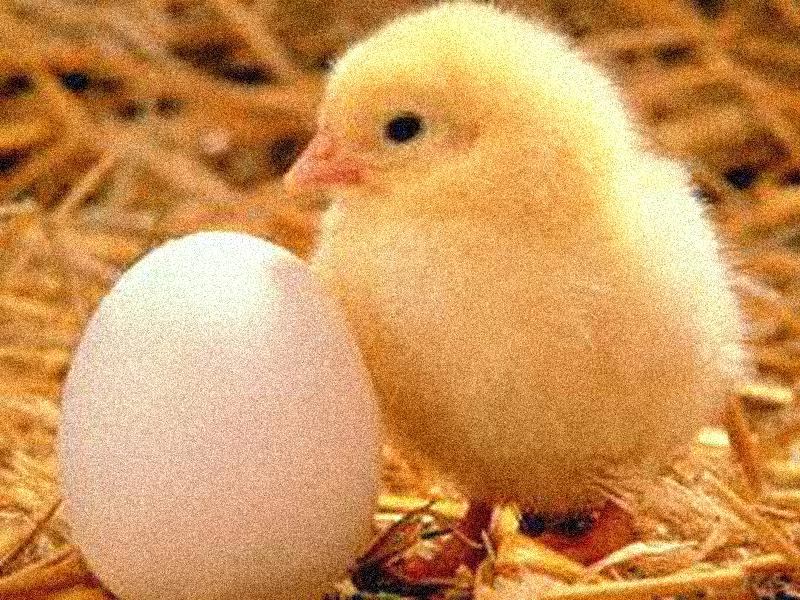Eggs: (59, 229, 383, 600)
